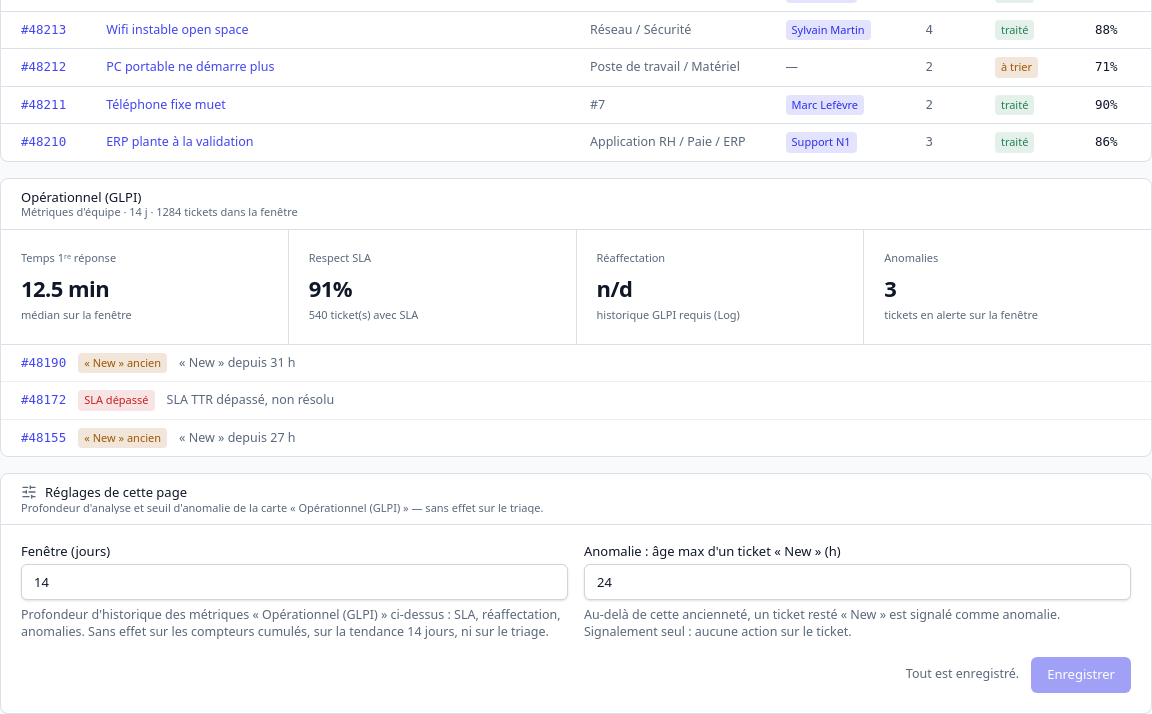
Dashboard — réglages de la vue › un enregistrement REFUSÉ ne rafraîchit rien — le refus ne doit pas ressembler à un succès
(page scrolled)
Replace the text in the number field labelled "Fenêtre (jours)" with "30" at x=294, y=582, box [21,564,568,600]
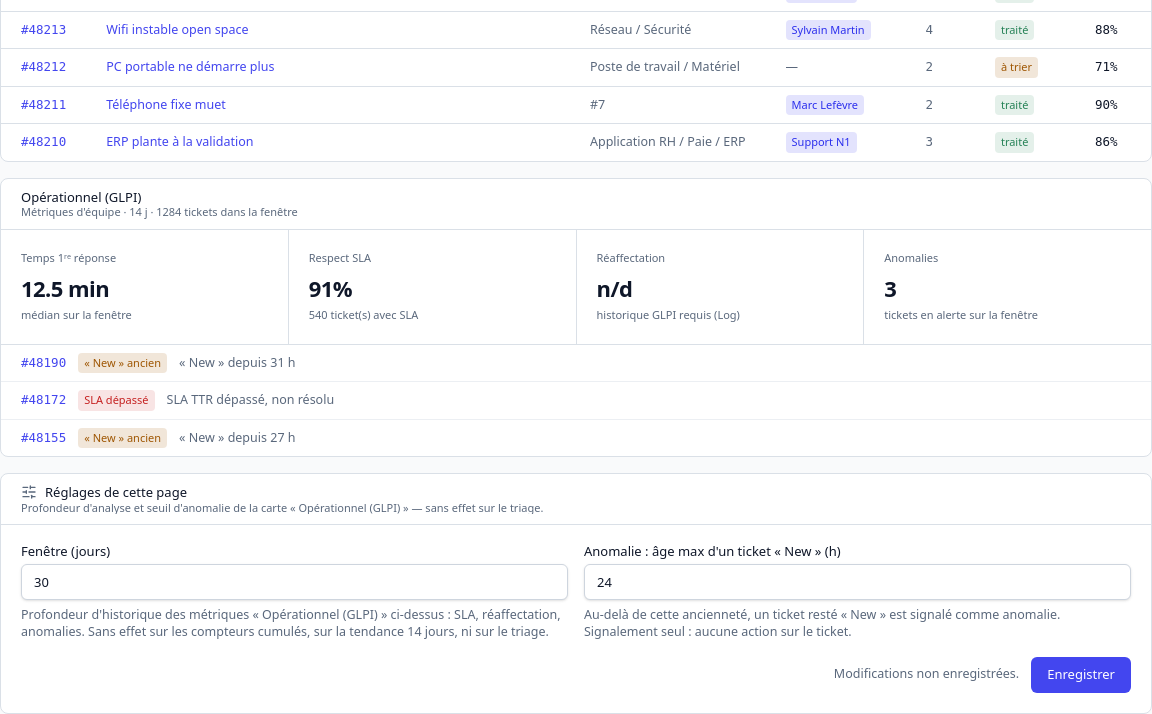
Click the button "Enregistrer" at x=1081, y=675, box [1031,657,1131,693]
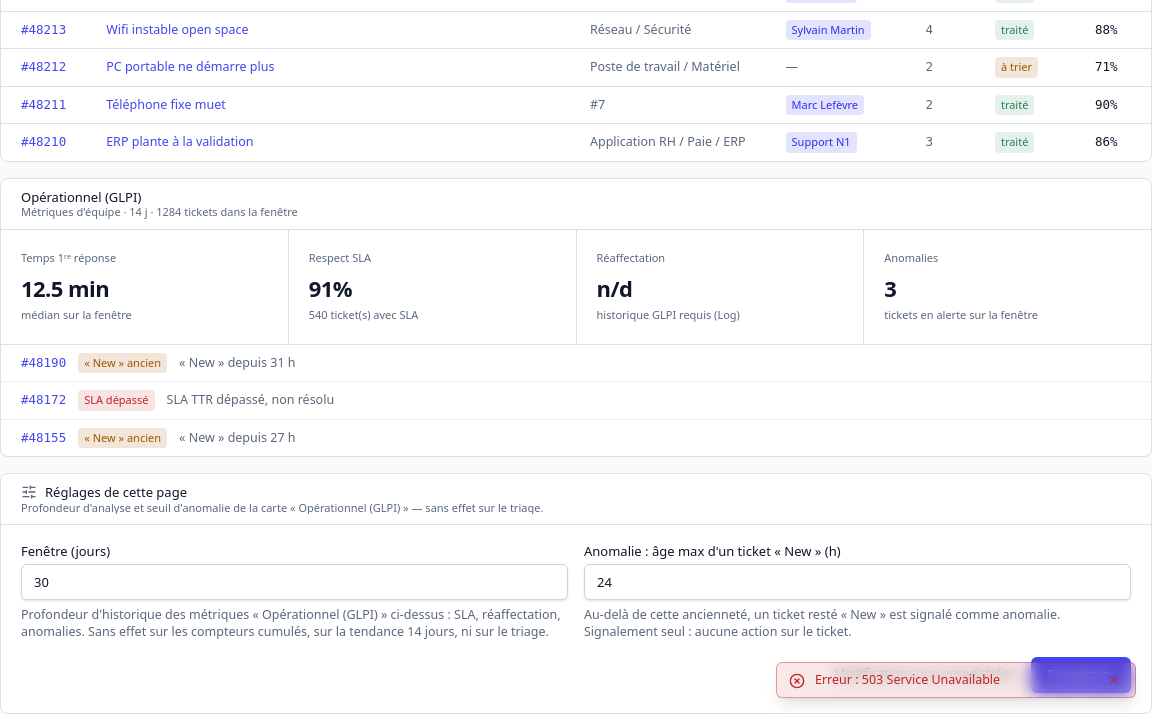
Result: the text "Erreur : 503 Service Unavailable" is shown at [815,671,1000,688]
